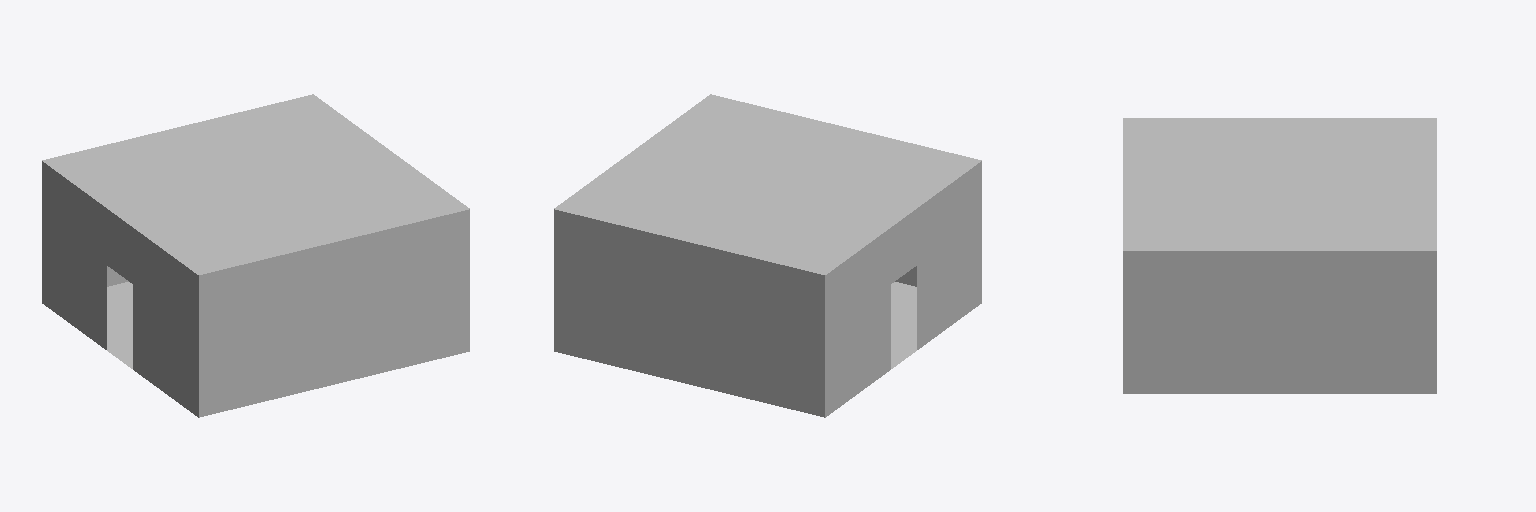
File: spk_room1_door.obj
The picture shows the model from 3 angles: view 1: azimuth 30°, elevation 25°; view 2: azimuth 150°, elevation 25°; view 3: azimuth 270°, elevation 25°; orthographic projection.
Parts seen in each view (by area): view 1: Box003; view 2: Box003; view 3: Box003.
Part boxes in pixels (left/top/right/bottom): Box003: left=42, top=94, right=469, bottom=417; Box003: left=554, top=94, right=981, bottom=417; Box003: left=1123, top=118, right=1436, bottom=393.
Bounding box in the file's own units: 20 × 10 × 20.